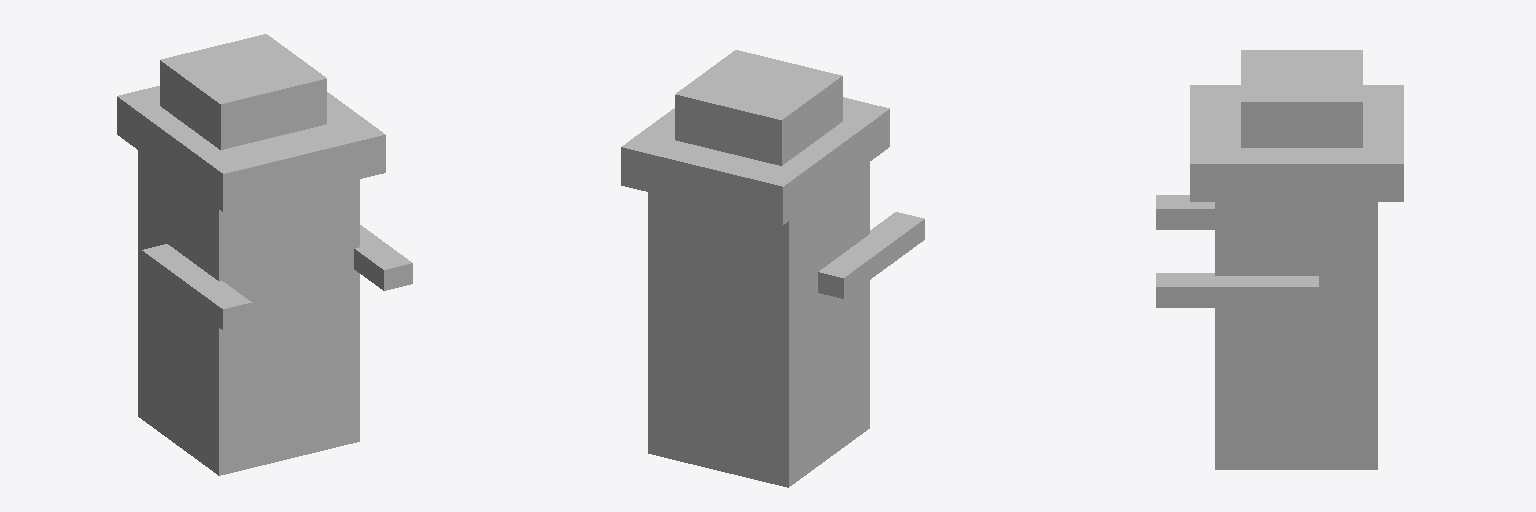
Rendered from Man.obj.
3 renders of one model, left to right at view 1: azimuth 30°, elevation 25°; view 2: azimuth 150°, elevation 25°; view 3: azimuth 270°, elevation 25°, orthographic.
Visible parts, largest first — view 1: Cube, Cube.003_Cube.005, Cube.004_Cube.006, Cube.001_Cube.003, Cube.002_Cube.004; view 2: Cube, Cube.003_Cube.005, Cube.004_Cube.006, Cube.001_Cube.003; view 3: Cube, Cube.003_Cube.005, Cube.004_Cube.006, Cube.002_Cube.004, Cube.001_Cube.003.
Part boxes in pixels (bbox=[...]): Cube: bbox=[138, 150, 359, 475]; Cube.003_Cube.005: bbox=[117, 86, 385, 212]; Cube.004_Cube.006: bbox=[160, 34, 326, 149]; Cube.001_Cube.003: bbox=[142, 244, 251, 329]; Cube.002_Cube.004: bbox=[354, 225, 412, 290]; Cube: bbox=[648, 162, 869, 487]; Cube.003_Cube.005: bbox=[621, 97, 889, 224]; Cube.004_Cube.006: bbox=[675, 50, 842, 165]; Cube.001_Cube.003: bbox=[818, 212, 924, 298]; Cube: bbox=[1215, 202, 1377, 469]; Cube.003_Cube.005: bbox=[1190, 85, 1403, 201]; Cube.004_Cube.006: bbox=[1241, 50, 1362, 147]; Cube.002_Cube.004: bbox=[1156, 273, 1318, 307]; Cube.001_Cube.003: bbox=[1156, 195, 1214, 229].
Bounding box in the file's own units: 2.7 × 4.87 × 3.05.